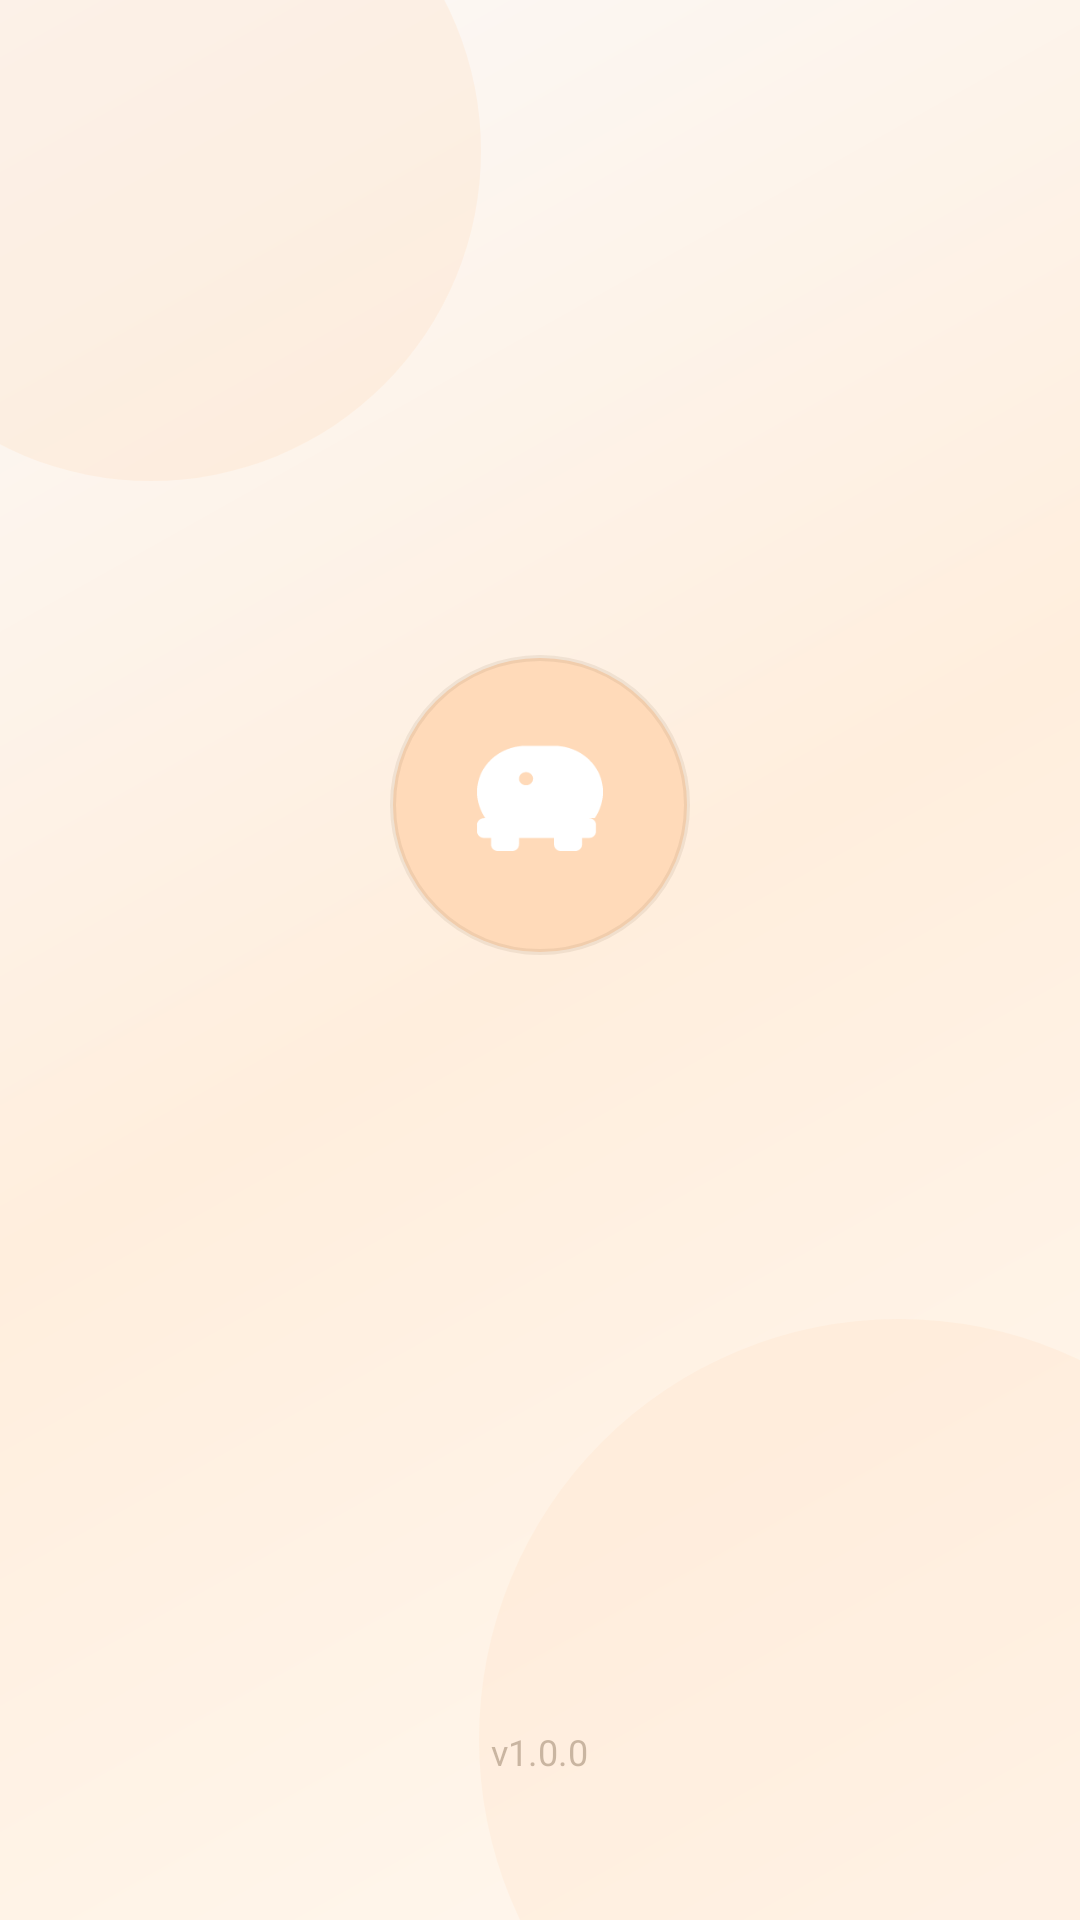

Locate icon controls on the screen. Image size 1080x1920, boxes as box(x1, y1, x2, y2).
piggy: box(477, 746, 603, 851)
